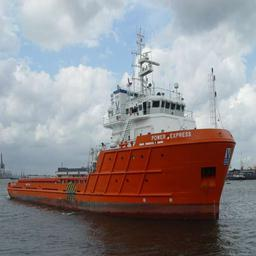Ship: (6, 45, 234, 224)
